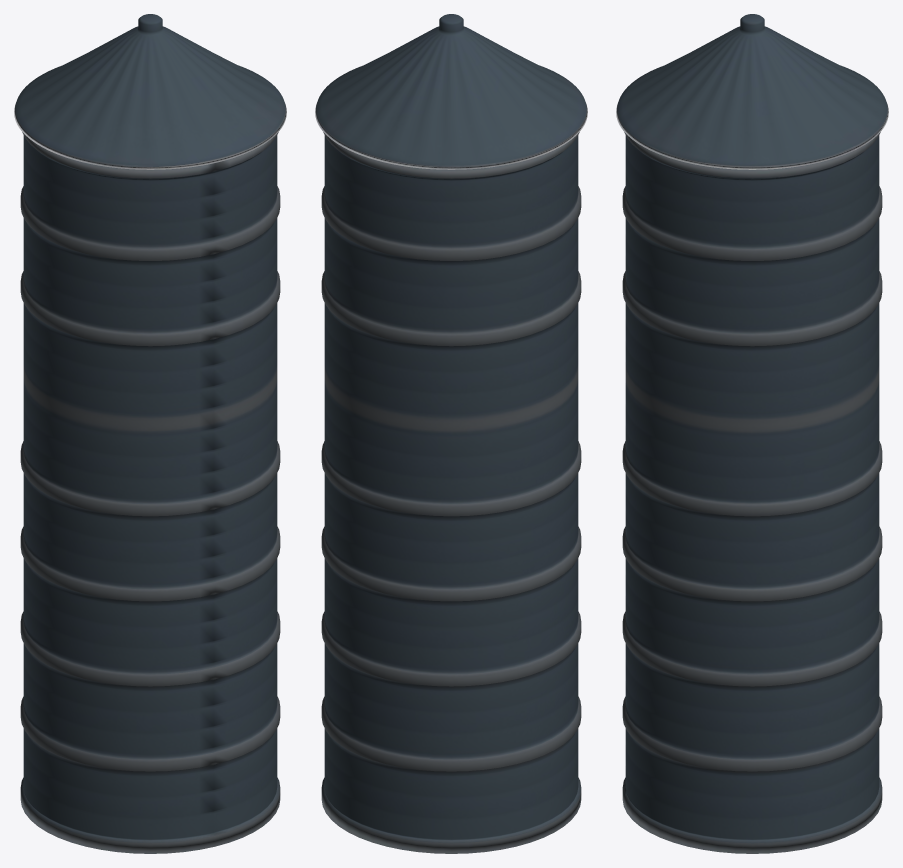
File: grain-silo-large-shell-tripo-original.glb
The picture shows the model from 3 angles, left to right: view 1: azimuth 30°, elevation 25°; view 2: azimuth 150°, elevation 25°; view 3: azimuth 270°, elevation 25°; orthographic projection.
Parts seen in each view (by area): view 1: Authored_surface_001; view 2: Authored_surface_001; view 3: Authored_surface_001.
Boxes of the visible parts, bbox=[...] form: Authored_surface_001: bbox=[14, 14, 286, 853]; Authored_surface_001: bbox=[315, 14, 587, 853]; Authored_surface_001: bbox=[616, 14, 888, 853].
Size of the model in its own units: 0.3166 by 1 by 0.3166.
1 material, 1 textured.
